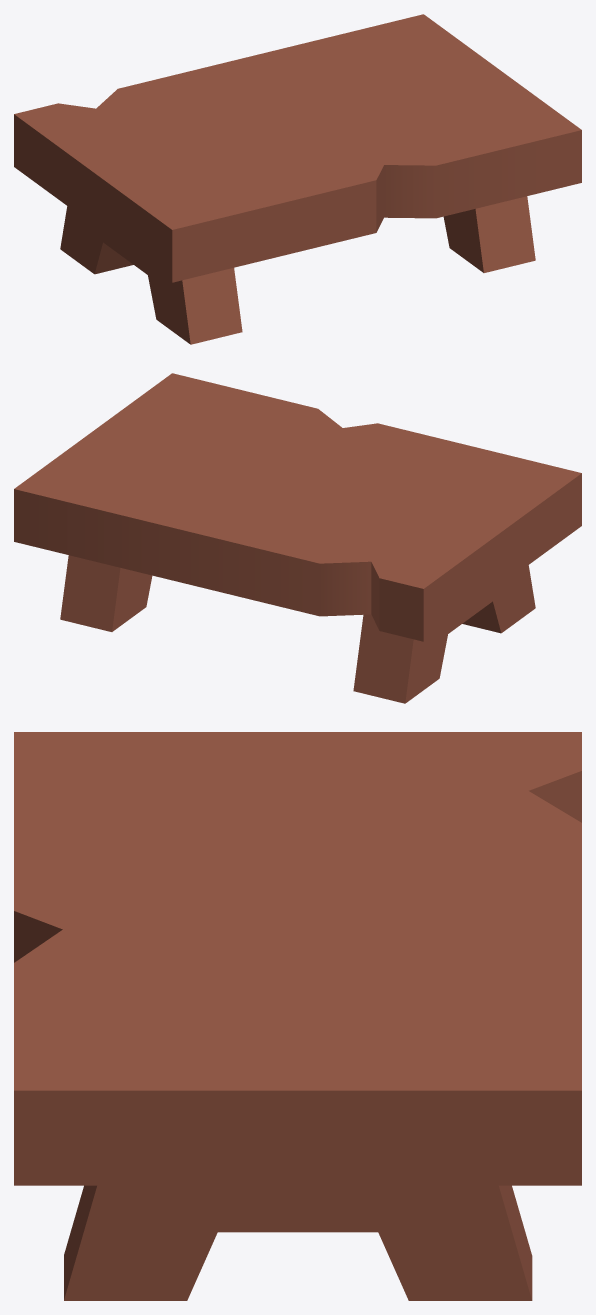
File: table.gltf.glb
3 views of the same model, one above another, from view 1: azimuth 30°, elevation 25°; view 2: azimuth 150°, elevation 25°; view 3: azimuth 270°, elevation 25° (orthographic). The views are drawn at different scales.
Parts seen in each view (by area): view 1: table; view 2: table; view 3: table.
Boxes of the visible parts, left/top/right/bottom form: table: left=14, top=14, right=581, bottom=344; table: left=14, top=373, right=581, bottom=703; table: left=14, top=732, right=581, bottom=1300.
Bounding box in the file's own units: 1.12 × 0.3475 × 0.7504.
